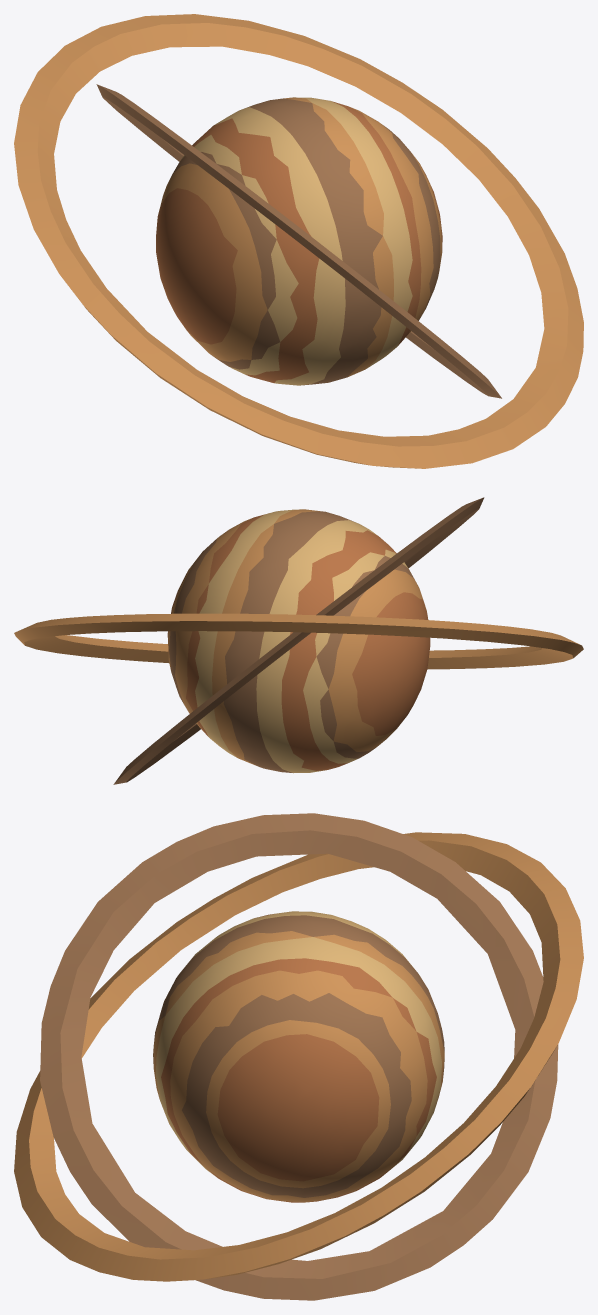
File: planet_ringed.repacked.glb
3 views of the same model, one above another, from view 1: azimuth 30°, elevation 25°; view 2: azimuth 150°, elevation 25°; view 3: azimuth 270°, elevation 25° (orthographic). The views are drawn at different scales.
Parts seen in each view (by area): view 1: Planet_7; view 2: Planet_7; view 3: Planet_7.
Boxes of the visible parts, x1=… form: Planet_7: x1=14, y1=14, x2=583, y2=468; Planet_7: x1=14, y1=497, x2=583, y2=784; Planet_7: x1=14, y1=813, x2=583, y2=1300.
Size of the model in its own units: 4.81 by 2.87 by 4.46.
1 material, 1 textured.
